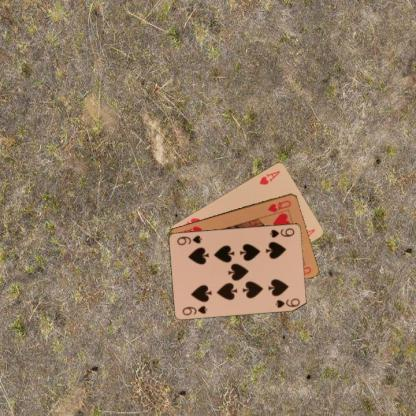9s: (267, 225, 296, 239), (180, 303, 209, 316)
Ah: (257, 168, 282, 186)
Qh: (265, 198, 292, 213)
